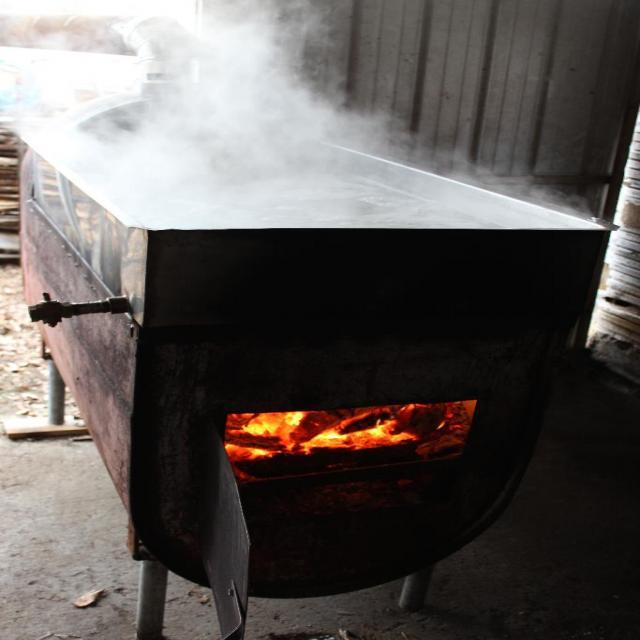Fire: (224, 410, 421, 450)
